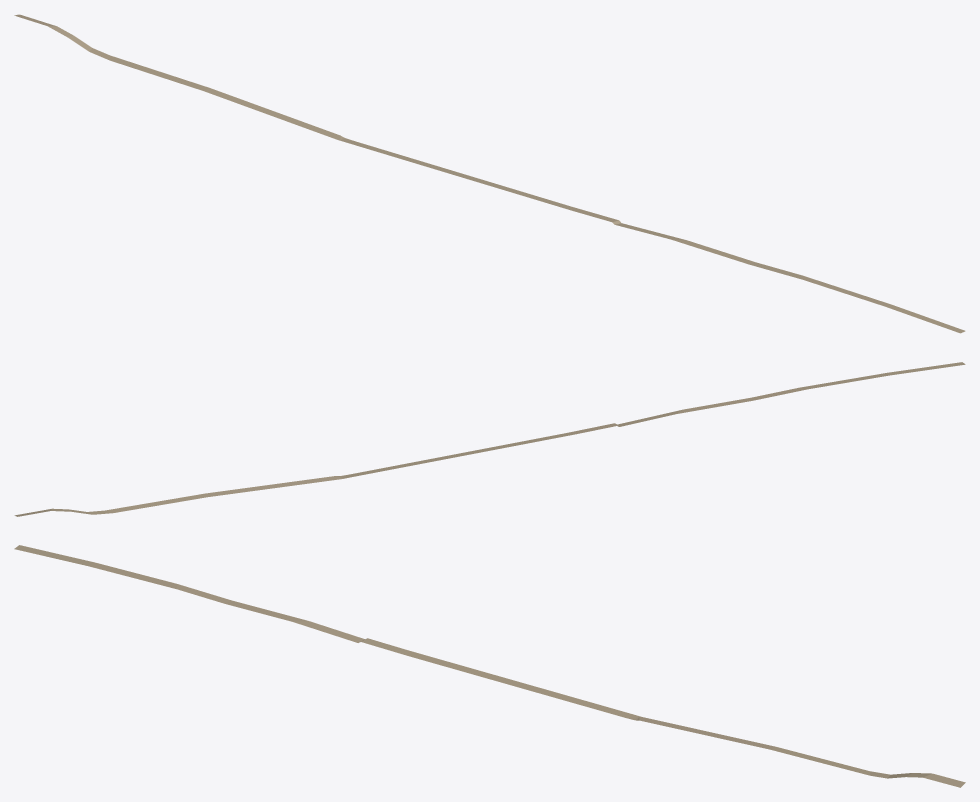
The model's file is farm_7_-3_track.glb.
3 renders of one model, top to bottom at view 1: azimuth 90°, elevation 25°; view 2: azimuth 150°, elevation 25°; view 3: azimuth 270°, elevation 25°, orthographic. The views are drawn at different scales.
Visible parts, largest first — view 1: geometry_0; view 2: geometry_0; view 3: geometry_0.
Part boxes in pixels (<box>): geometry_0: <box>14,14,965,333</box>; geometry_0: <box>14,362,965,516</box>; geometry_0: <box>14,545,965,787</box>.
Size of the model in its own units: 230 by 15.68 by 330.
